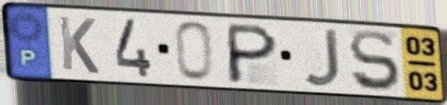0: (171, 18, 219, 84)
4: (113, 17, 154, 79)
J: (300, 27, 343, 89)
K: (56, 13, 102, 76)
P: (224, 21, 281, 86)
S: (346, 28, 404, 94)
